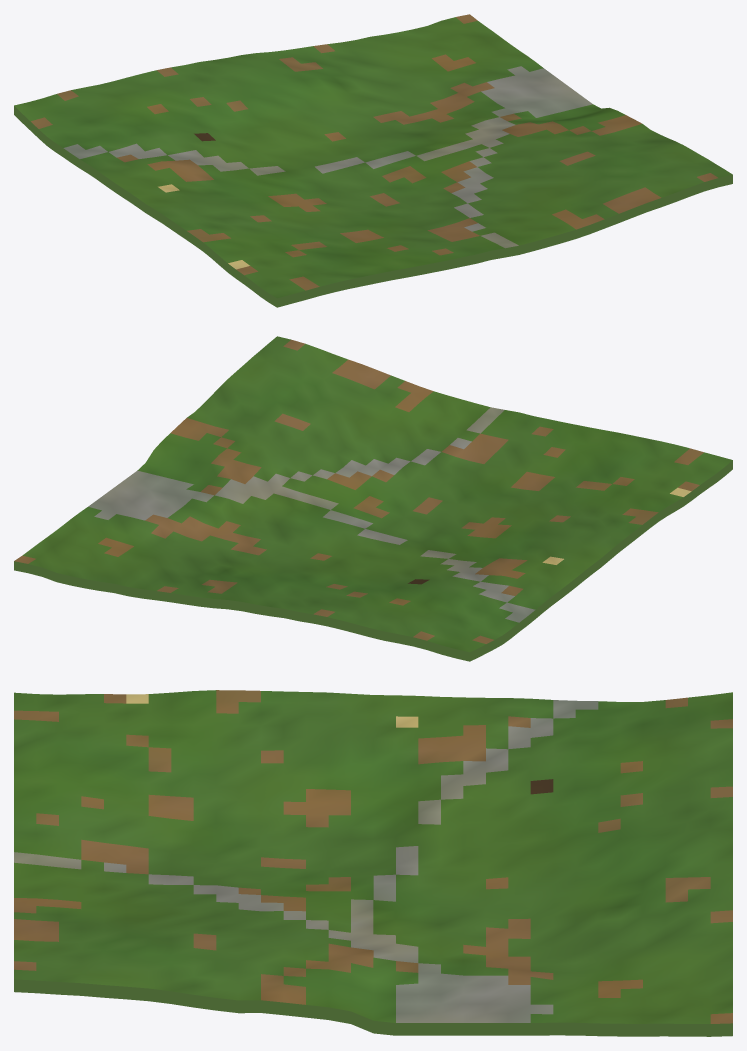
File: chunk_3_4_lod1.glb
The picture shows the model from 3 angles, top to bottom: view 1: azimuth 30°, elevation 25°; view 2: azimuth 150°, elevation 25°; view 3: azimuth 270°, elevation 25°; orthographic projection. The views are drawn at different scales.
Parts seen in each view (by area): view 1: Surface_Grass, Surface_Dirt, Surface_Gravel, Skirt; view 2: Surface_Grass, Surface_Dirt, Surface_Gravel, Skirt; view 3: Surface_Grass, Surface_Dirt, Surface_Gravel, Skirt.
Part boxes in pixels (x1=…): Surface_Grass: x1=14, y1=17, x2=732, y2=298; Surface_Dirt: x1=31, y1=14, x2=717, y2=290; Surface_Gravel: x1=63, y1=66, x2=592, y2=248; Skirt: x1=14, y1=106, x2=732, y2=307; Surface_Grass: x1=22, y1=336, x2=732, y2=652; Surface_Dirt: x1=14, y1=339, x2=703, y2=643; Surface_Gravel: x1=88, y1=407, x2=535, y2=622; Skirt: x1=14, y1=460, x2=732, y2=661; Surface_Grass: x1=14, y1=690, x2=732, y2=1023; Surface_Dirt: x1=14, y1=690, x2=732, y2=1023; Surface_Gravel: x1=14, y1=700, x2=598, y2=1022; Skirt: x1=14, y1=979, x2=732, y2=1036.
Size of the model in its own units: 256 by 23.1 by 256.
